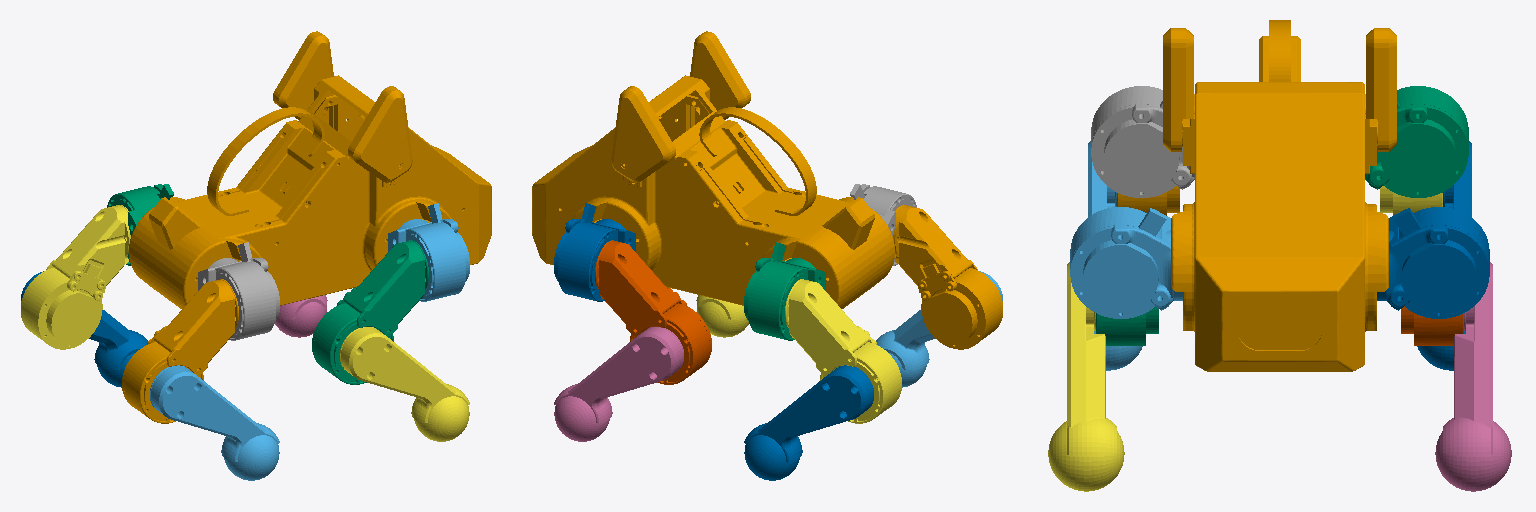
The robot description file, URDF, robot "pupper_v3":
<robot name="pupper_v3" version="1.0">

  <joint name="leg_front_r_1" type="revolute">
    <limit lower="-1.22000" upper="2.51000" effort="3.00000" velocity="100.00000" />
    <origin rpy="1.57080 0.00000 0.00000" xyz="0.07500 -0.08350 0.00000" />
    <parent link="base_link" />
    <child link="leg_front_r_1" />
    <axis xyz="0.00000 0.00000 1.00000" />
  </joint>
  <joint name="leg_front_r_2" type="revolute">
    <limit lower="-0.42000" upper="3.14000" effort="3.00000" velocity="100.00000" />
    <origin rpy="1.49199 -1.57080 -1.49198" xyz="0.00000 0.00000 0.00000" />
    <parent link="leg_front_r_1" />
    <child link="leg_front_r_2" />
    <axis xyz="0.00000 0.00000 1.00000" />
  </joint>
  <joint name="leg_front_r_3" type="revolute">
    <limit lower="-2.79000" upper="0.71000" effort="3.00000" velocity="100.00000" />
    <origin rpy="-0.00000 1.57080 0.00000" xyz="0.00000 -0.04940 0.06850" />
    <parent link="leg_front_r_2" />
    <child link="leg_front_r_3" />
    <axis xyz="0.00000 0.00000 1.00000" />
  </joint>

  <joint name="leg_front_l_1" type="revolute">
    <limit lower="-2.51000" upper="1.22000" effort="3.00000" velocity="100.00000" />
    <origin rpy="-1.57080 0.00000 0.00000" xyz="0.07500 0.08350 0.00000" />
    <parent link="base_link" />
    <child link="leg_front_l_1" />
    <axis xyz="0.00000 0.00000 1.00000" />
  </joint>
  <joint name="leg_front_l_2" type="revolute">
    <limit lower="-3.14000" upper="0.42000" effort="3.00000" velocity="100.00000" />
    <origin rpy="1.57080 1.57080 -1.57080" xyz="0.00000 0.00000 0.00000" />
    <parent link="leg_front_l_1" />
    <child link="leg_front_l_2" />
    <axis xyz="0.00000 0.00000 1.00000" />
  </joint>
  <joint name="leg_front_l_3" type="revolute">
    <limit lower="-0.71000" upper="+2.79000" effort="3.00000" velocity="100.00000" />
    <origin rpy="-0.00000 1.57080 3.14159" xyz="0.00000 -0.04940 0.06850" />
    <parent link="leg_front_l_2" />
    <child link="leg_front_l_3" />
    <axis xyz="0.00000 0.00000 1.00000" />
  </joint>


  <joint name="leg_back_r_1" type="revolute">
    <limit lower="-1.22000" upper="2.51000" effort="3.00000" velocity="100.00000" />
    <origin rpy="1.57080 0.00000 0.00000" xyz="-0.07500 -0.07250 0.00000" />
    <parent link="base_link" />
    <child link="leg_back_r_1" />
    <axis xyz="0.00000 0.00000 1.00000" />
  </joint>
  <joint name="leg_back_r_2" type="revolute">
    <limit lower="-0.42000" upper="3.14000" effort="3.00000" velocity="100.00000" />
    <origin rpy="1.49199 -1.57080 -1.49198" xyz="0.00000 0.00000 0.00000" />
    <parent link="leg_back_r_1" />
    <child link="leg_back_r_2" />
    <axis xyz="0.00000 0.00000 1.00000" />
  </joint>
  <joint name="leg_back_r_3" type="revolute">
    <limit lower="-2.79000" upper="0.71000" effort="3.00000" velocity="100.00000" />
    <origin rpy="-0.00000 1.57080 0.00000" xyz="0.00000 -0.04940 0.06850" />
    <parent link="leg_back_r_2" />
    <child link="leg_back_r_3" />
    <axis xyz="0.00000 0.00000 1.00000" />
  </joint>

  <joint name="leg_back_l_1" type="revolute">
    <limit lower="-2.51000" upper="1.22000" effort="3.00000" velocity="100.00000" />
    <origin rpy="-1.57080 0.00000 0.00000" xyz="-0.07500 0.07250 0.00000" />
    <parent link="base_link" />
    <child link="leg_back_l_1" />
    <axis xyz="0.00000 0.00000 1.00000" />
  </joint>
  <joint name="leg_back_l_2" type="revolute">
    <limit lower="-3.14000" upper="0.42000" effort="3.00000" velocity="100.00000" />
    <origin rpy="1.57080 1.57080 -1.57080" xyz="0.00000 0.00000 0.00000" />
    <parent link="leg_back_l_1" />
    <child link="leg_back_l_2" />
    <axis xyz="0.00000 0.00000 1.00000" />
  </joint>
  <joint name="leg_back_l_3" type="revolute">
    <limit lower="-0.71000" upper="+2.79000" effort="3.00000" velocity="100.00000" />
    <origin rpy="-0.00000 1.57080 3.14159" xyz="0.00000 -0.04940 0.06850" />
    <parent link="leg_back_l_2" />
    <child link="leg_back_l_3" />
    <axis xyz="0.00000 0.00000 1.00000" />
  </joint>


  <link name="base_link">
    <collision name="body_collision">
      <origin rpy="-1.57080 -0.00000 1.57080" xyz="0.02146 -0.00000 0.03345" />
      <geometry>
        <box size="0.09014 0.12758 0.25943" />
      </geometry>
    </collision>
    <inertial>
      <inertia ixx="0.00240" ixy="0.000000" ixz="-0.0005" iyy="0.00850" iyz="0.00000" izz="0.00850" />
      <origin rpy="0.00000 0.00000 0.00000" xyz="0.02500 0.00000 0.01500" />
      <mass value="1.506" />
    </inertial>
    <visual name="body">
      <origin rpy="-1.57080 -0.00000 1.57080" xyz="0.00000 0.00000 0.00000" />
      <geometry>
        <mesh filename="../meshes/dae/Body V4 v70.001.dae" scale="1.00000 1.00000 1.00000" />
      </geometry>
    </visual>
  </link>
  <link name="leg_front_r_1">
    <inertial>
      <inertia ixx="0.000074" ixy="0.0" ixz="0.0" iyy="0.000058" iyz="0.0" izz="0.000048" />
      <origin rpy="0.00000 0.00000 0.00000" xyz="0.0 0.0 0.0" />
      <mass value="0.18000" />
    </inertial>
    <visual name="Leg Assembly For Flanged v26.001">
      <origin rpy="0.00000 0.00000 3.14159" xyz="0.00000 0.00000 -0.02800" />
      <geometry>
        <mesh filename="../meshes/dae/Leg Assembly For Flanged v26.001.dae"
          scale="1.00000 1.00000 1.00000" />
      </geometry>
    </visual>
  </link>
  <link name="leg_front_r_2">
    <collision name="Cylinder">
      <origin rpy="-0.00000 1.57080 0.00000" xyz="0.00000 -0.04940 0.06850" />
      <geometry>
        <cylinder radius="0.02500" length="0.03000" />
      </geometry>
    </collision>
    <inertial>
      <inertia ixx="0.000113" ixy="0.0" ixz="0.0" iyy="0.000067" iyz="0.000025" izz="0.000077" />
      <origin rpy="0.00000 0.00000 0.00000" xyz="0.0 -0.03340 0.05419" />
      <mass value="0.18600" />
    </inertial>
    <visual name="Leg Assembly For Flanged v26.002">
      <origin rpy="0.26213 -1.57080 2.87947" xyz="-0.02800 -0.00000 -0.00000" />
      <geometry>
        <mesh filename="../meshes/dae/Leg Assembly For Flanged v26.002.dae"
          scale="1.00000 1.00000 1.00000" />
      </geometry>
    </visual>
  </link>
  <link name="leg_front_r_3">
    <collision name="Leg Assembly For Flanged v26.007">
      <origin rpy="-0.00000 0.00000 3.14159" xyz="0.06231 -0.06216 0.01800" />
      <geometry>
        <sphere radius="0.01995" />
      </geometry>
    </collision>
    <inertial>
      <inertia ixx="0.0000405" ixy="0.000035" ixz="0.0" iyy="0.0000405" iyz="0.0" izz="0.000077" />
      <origin rpy="0.00000 0.00000 0.00000" xyz="0.03866 -0.03585 0.01833" />
      <mass value="0.05000" />
    </inertial>
    <visual name="Leg Assembly For Flanged v26.003">
      <origin rpy="-0.00000 0.00000 3.14159" xyz="0.06850 0.04940 -0.02800" />
      <geometry>
        <mesh filename="../meshes/dae/Leg Assembly For Flanged v26.003.dae"
          scale="1.00000 1.00000 1.00000" />
      </geometry>
    </visual>
  </link>
  <link name="leg_front_l_1">
    <inertial>
      <inertia ixx="0.000074" ixy="0.0" ixz="0.0" iyy="0.000058" iyz="0.0" izz="0.000048" />
      <origin rpy="0.00000 0.00000 0.00000" xyz="0.0 0.0 0.0" />
      <mass value="0.18000" />
    </inertial>
    <visual name="Leg Assembly For Flanged v26.009">
      <origin rpy="0.00000 0.00000 3.14159" xyz="0.00000 0.00000 -0.02800" />
      <geometry>
        <mesh filename="../meshes/dae/Leg Assembly For Flanged v26.010.dae"
          scale="1.00000 -1.00000 1.00000" />
      </geometry>
    </visual>
  </link>
  <link name="leg_front_l_2">
    <collision name="Cylinder.002">
      <origin rpy="-0.00000 1.57080 0.00000" xyz="0.00000 -0.04940 0.06850" />
      <geometry>
        <cylinder radius="0.02500" length="0.03000" />
      </geometry>
    </collision>
    <inertial>
      <inertia ixx="0.000113" ixy="0.0" ixz="0.0" iyy="0.000067" iyz="0.000025" izz="0.000077" />
      <origin rpy="0.00000 0.00000 0.00000" xyz="0 -0.03340 0.05419" />
      <mass value="0.18600" />
    </inertial>
    <visual name="Leg Assembly For Flanged v26.010">
      <origin rpy="0.26213 -1.57080 2.87947" xyz="+0.02800 -0.00000 -0.00000" />
      <geometry>
        <mesh filename="../meshes/dae/Leg Assembly For Flanged v26.011.dae"
          scale="1.00000 1.00000 -1.00000" />
      </geometry>
    </visual>
  </link>
  <link name="leg_front_l_3">
    <collision name="Leg Assembly For Flanged v26.015">
      <origin rpy="-0.00000 0.00000 3.14159" xyz="0.06231 0.06216 0.01800" />
      <geometry>
        <sphere radius="0.01995" />
      </geometry>
    </collision>
    <inertial>
      <inertia ixx="0.0000405" ixy="-0.000035" ixz="0.0" iyy="0.0000405" iyz="0.0" izz="0.000077" />
      <origin rpy="0.00000 0.00000 0.00000" xyz="0.03866 0.03585 0.01833" />
      <mass value="0.05000" />
    </inertial>
    <visual name="Leg Assembly For Flanged v26.011">
      <origin rpy="3.14159 0.00000 3.14159" xyz="0.06850 -0.04940 -0.02800" />
      <geometry>
        <mesh filename="../meshes/dae/Leg Assembly For Flanged v26.012.dae"
          scale="1.00000 1.00000 -1.00000" />
      </geometry>
    </visual>
  </link>
  <link name="leg_back_r_1">
    <inertial>
      <inertia ixx="0.000074" ixy="0.0" ixz="0.0" iyy="0.000058" iyz="0.0" izz="0.000048" />
      <origin rpy="0.00000 0.00000 0.00000" xyz="0.0 0.0 0.0" />
      <mass value="0.18000" />
    </inertial>
    <visual name="Leg Assembly For Flanged v26.004">
      <origin rpy="0.00000 0.00000 3.14159" xyz="0.00000 0.00000 -0.02800" />
      <geometry>
        <mesh filename="../meshes/dae/Leg Assembly For Flanged v26.005.dae"
          scale="1.00000 1.00000 1.00000" />
      </geometry>
    </visual>
  </link>
  <link name="leg_back_r_2">
    <collision name="Cylinder.001">
      <origin rpy="-0.00000 1.57080 0.00000" xyz="0.00000 -0.04940 0.06850" />
      <geometry>
        <cylinder radius="0.02500" length="0.03000" />
      </geometry>
    </collision>
    <inertial>
      <inertia ixx="0.000113" ixy="0.0" ixz="0.0" iyy="0.000067" iyz="0.000025" izz="0.000077" />
      <origin rpy="0.00000 0.00000 0.00000" xyz="0.0 -0.03340 0.05419" />
      <mass value="0.18600" />
    </inertial>
    <visual name="Leg Assembly For Flanged v26.005">
      <origin rpy="0.26213 -1.57080 2.87947" xyz="-0.02800 -0.00000 -0.00000" />
      <geometry>
        <mesh filename="../meshes/dae/Leg Assembly For Flanged v26.006.dae"
          scale="1.00000 1.00000 1.00000" />
      </geometry>
    </visual>
  </link>
  <link name="leg_back_r_3">
    <collision name="Leg Assembly For Flanged v26.008">
      <origin rpy="-0.00000 0.00000 3.14159" xyz="0.06231 -0.06216 0.01800" />
      <geometry>
        <sphere radius="0.01995" />
      </geometry>
    </collision>
    <inertial>
      <inertia ixx="0.0000405" ixy="0.000035" ixz="0.0" iyy="0.0000405" iyz="0.0" izz="0.000077" />
      <origin rpy="0.00000 0.00000 0.00000" xyz="0.03866 -0.03585 0.01833" />
      <mass value="0.05000" />
    </inertial>
    <visual name="Leg Assembly For Flanged v26.006">
      <origin rpy="-0.00000 0.00000 3.14159" xyz="0.06850 0.04940 -0.02800" />
      <geometry>
        <mesh filename="../meshes/dae/Leg Assembly For Flanged v26.007.dae"
          scale="1.00000 1.00000 1.00000" />
      </geometry>
    </visual>
  </link>
  <link name="leg_back_l_1">
    <inertial>
      <inertia ixx="0.000074" ixy="0.0" ixz="0.0" iyy="0.000058" iyz="0.0" izz="0.000048" />
      <origin rpy="0.00000 0.00000 0.00000" xyz="0.0 0.0 0.0" />
      <mass value="0.18000" />
    </inertial>
    <visual name="Leg Assembly For Flanged v26.012">
      <origin rpy="0.00000 0.00000 3.14159" xyz="0.00000 0.00000 -0.02800" />
      <geometry>
        <mesh filename="../meshes/dae/Leg Assembly For Flanged v26.013.dae"
          scale="1.00000 -1.00000 1.00000" />
      </geometry>
    </visual>
  </link>
  <link name="leg_back_l_2">
    <collision name="Cylinder.003">
      <origin rpy="-0.00000 1.57080 0.00000" xyz="0.00000 -0.04940 0.06850" />
      <geometry>
        <cylinder radius="0.02500" length="0.03000" />
      </geometry>
    </collision>
    <inertial>
      <inertia ixx="0.000113" ixy="0.0" ixz="0.0" iyy="0.000067" iyz="0.000025" izz="0.000077" />
      <origin rpy="0.00000 0.00000 0.00000" xyz="0.0 -0.03340 0.05419" />
      <mass value="0.18600" />
    </inertial>
    <visual name="Leg Assembly For Flanged v26.013">
      <origin rpy="0.26213 -1.57080 2.87947" xyz=" +0.02800 -0.00000 -0.00000" />
      <geometry>
        <mesh filename="../meshes/dae/Leg Assembly For Flanged v26.014.dae"
          scale="1.00000 1.00000 -1.00000" />
      </geometry>
    </visual>
  </link>
  <link name="leg_back_l_3">
    <collision name="Leg Assembly For Flanged v26.016">
      <origin rpy="-0.00000 0.00000 3.14159" xyz="0.06231 0.06216 0.01800" />
      <geometry>
        <sphere radius="0.01995" />
      </geometry>
    </collision>
    <inertial>
      <inertia ixx="0.0000405" ixy="-0.000035" ixz=" 0.0" iyy=" 0.0000405" iyz=" 0.0"
        izz="0.000077" />
      <origin rpy="0.00000 0.00000 0.00000" xyz="0.03866 0.03585 0.01833" />
      <mass value="0.05000" />
    </inertial>
    <visual name="Leg Assembly For Flanged v26.014">
      <origin rpy="3.14159 0.00000 3.14159" xyz="0.06850 -0.04940 -0.02800" />
      <geometry>
        <mesh filename="../meshes/dae/Leg Assembly For Flanged v26.015.dae"
          scale="1.00000 1.00000 -1.00000" />
      </geometry>
    </visual>
  </link>
</robot>

--- Render facts (derived) ---
The picture shows the robot from 3 angles, left to right: view 1: azimuth 30°, elevation 25°; view 2: azimuth 150°, elevation 25°; view 3: azimuth 270°, elevation 25°; orthographic projection.
Model pupper_v3 with 13 links and 12 joints (12 revolute), rooted at base_link, posed every joint at zero.
Links seen in each view (by area): view 1: base_link, leg_back_l_2, leg_back_r_2, leg_front_r_2, leg_front_r_3, leg_back_r_3, leg_front_r_1, leg_back_r_1, leg_back_l_3, leg_front_l_3, leg_back_l_1; view 2: base_link, leg_back_r_2, leg_back_l_2, leg_front_l_2, leg_front_l_3, leg_back_l_3, leg_front_l_1, leg_back_l_1, leg_back_r_3, leg_front_r_3, leg_back_r_1; view 3: base_link, leg_front_r_1, leg_front_l_1, leg_front_r_3, leg_front_l_3, leg_back_r_1, leg_back_l_1, leg_back_r_3, leg_back_l_3, leg_front_r_2, leg_front_l_2, leg_back_r_2 (+1 smaller).
Link boxes in pixels (x1,y1,x2,y2): base_link: (129, 31, 491, 308); leg_back_l_2: (21, 205, 130, 349); leg_back_r_2: (122, 279, 238, 423); leg_front_r_2: (312, 240, 428, 384); leg_front_r_3: (340, 327, 469, 441); leg_back_r_3: (150, 365, 279, 480); leg_front_r_1: (388, 203, 469, 301); leg_back_r_1: (198, 242, 279, 340); leg_back_l_3: (21, 271, 147, 387); leg_front_l_3: (275, 295, 327, 337); leg_back_l_1: (107, 184, 173, 265); base_link: (532, 31, 894, 308); leg_back_r_2: (893, 205, 1002, 349); leg_back_l_2: (785, 279, 901, 423); leg_front_l_2: (595, 240, 711, 384); leg_front_l_3: (554, 327, 683, 441); leg_back_l_3: (744, 365, 873, 480); leg_front_l_1: (554, 203, 635, 301); leg_back_l_1: (744, 242, 825, 340); leg_back_r_3: (876, 271, 1002, 387); leg_front_r_3: (696, 295, 748, 337); leg_back_r_1: (850, 184, 916, 265); base_link: (1163, 20, 1396, 371); leg_front_r_1: (1070, 207, 1182, 318); leg_front_l_1: (1377, 207, 1489, 318); leg_front_r_3: (1048, 262, 1124, 491); leg_front_l_3: (1435, 262, 1511, 491); leg_back_r_1: (1091, 86, 1194, 197); leg_back_l_1: (1365, 86, 1468, 197); leg_back_r_3: (1088, 141, 1142, 370); leg_back_l_3: (1417, 141, 1471, 370); leg_front_r_2: (1096, 306, 1158, 345); leg_front_l_2: (1401, 306, 1463, 345); leg_back_r_2: (1117, 186, 1179, 215).
Bounding box of the posed robot: 0.3212 × 0.243 × 0.2593 m (x, y, z).
Meshes: 13 distinct files referenced, 13 mesh visuals loaded (13 Collada DAE).